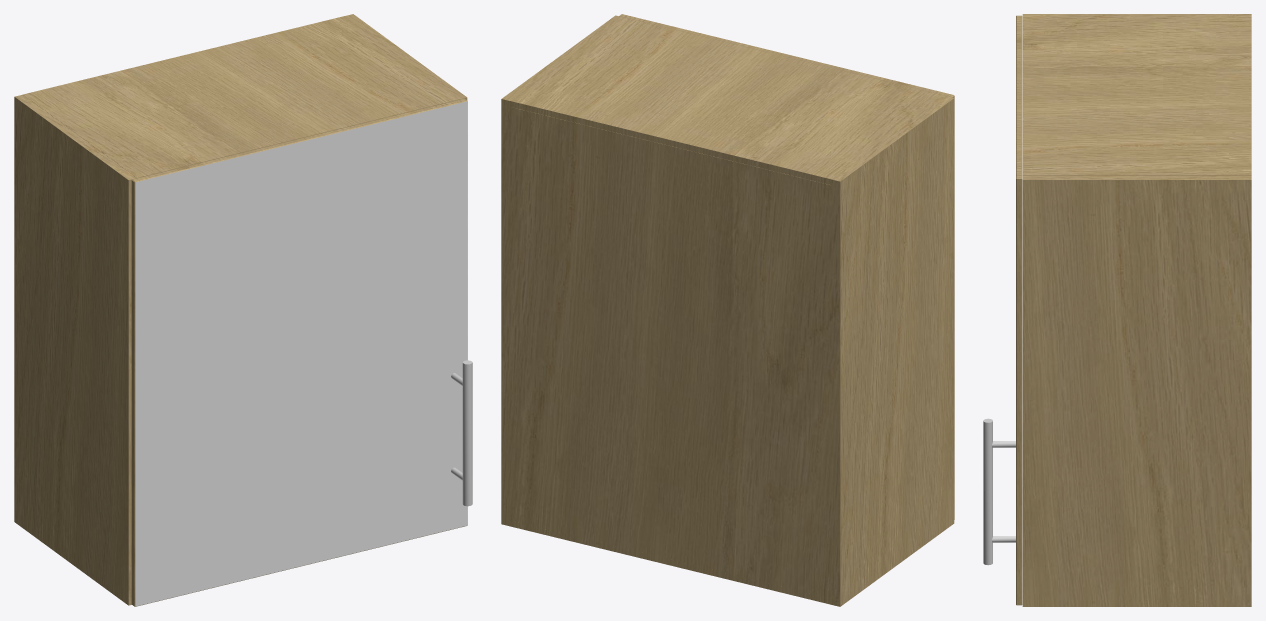
Rendered from sh_blend_swap_cc_0_uppercabinet.glb.
3 renders of one model, left to right at view 1: azimuth 30°, elevation 25°; view 2: azimuth 150°, elevation 25°; view 3: azimuth 270°, elevation 25°, orthographic.
Size of the model in its own units: 0.6 by 0.72 by 0.41.
4 materials, 2 textured.
